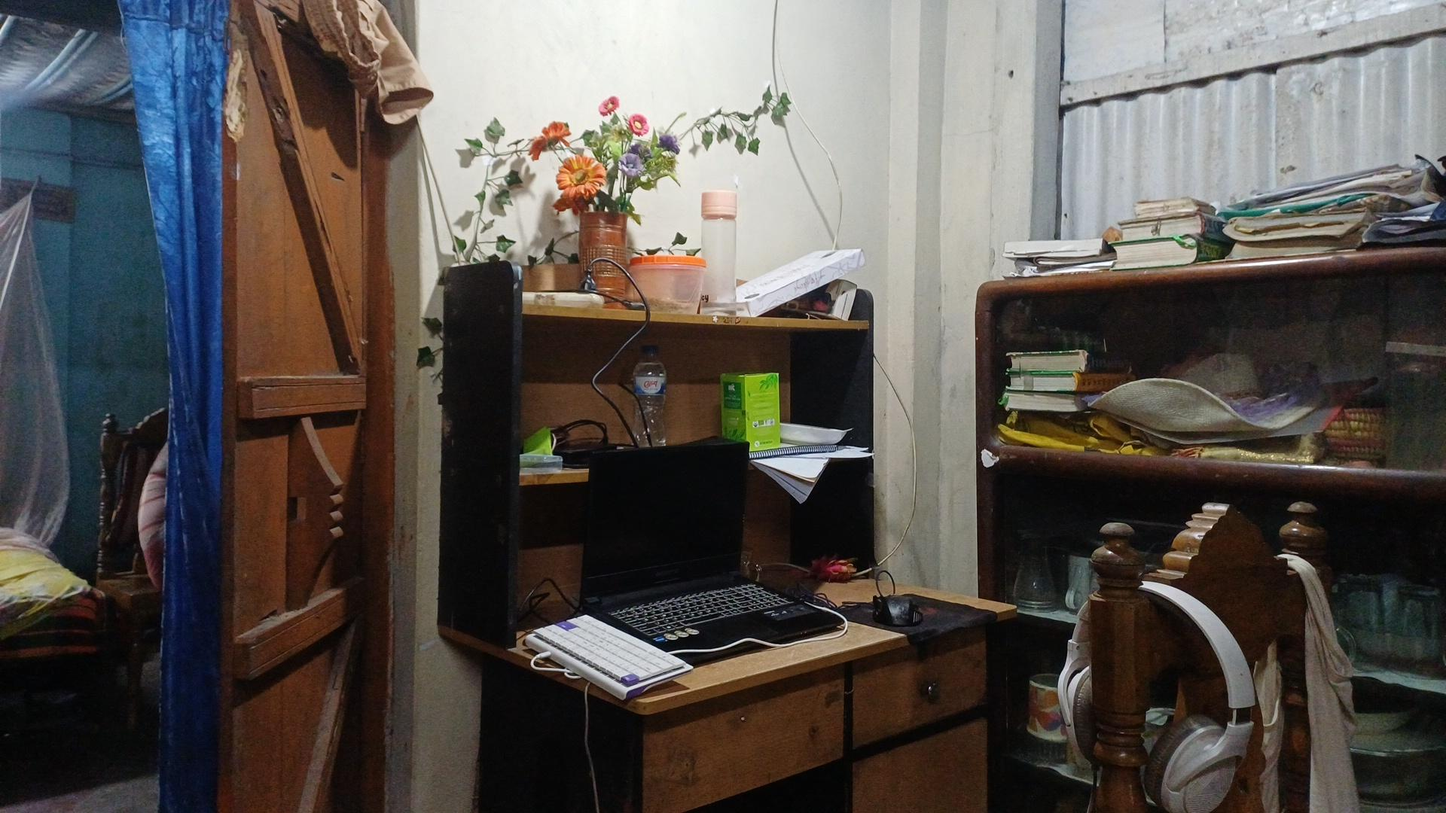Book: (1090, 184, 1210, 272), (1229, 197, 1360, 265), (996, 339, 1092, 425)
Bottle: (694, 178, 742, 310), (623, 349, 668, 451)
Box: (745, 280, 890, 332), (716, 362, 789, 446)
Door: (201, 102, 432, 786)
Drawer: (849, 691, 1050, 779)
Food: (626, 244, 708, 310)
Keyboard: (503, 595, 699, 705)
Laptop: (569, 449, 836, 642)
Mouse: (865, 554, 943, 624)
Plant: (545, 97, 648, 305)
Plate: (783, 402, 854, 449)
